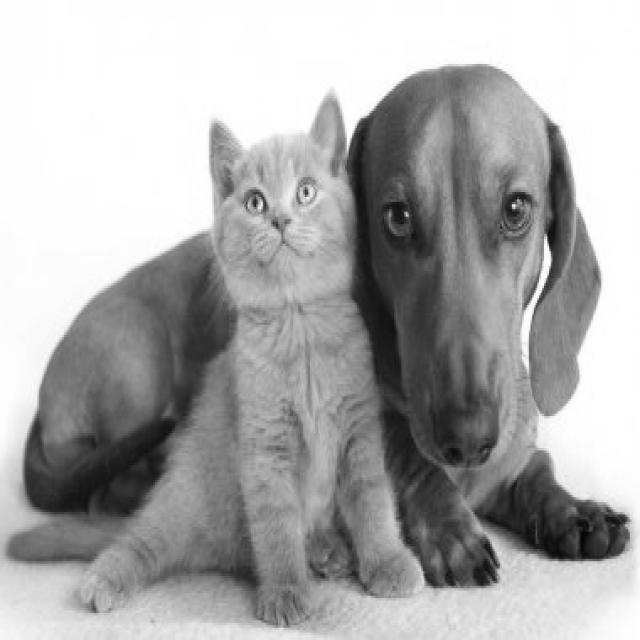Animal: (81, 97, 423, 624), (349, 65, 630, 586)
